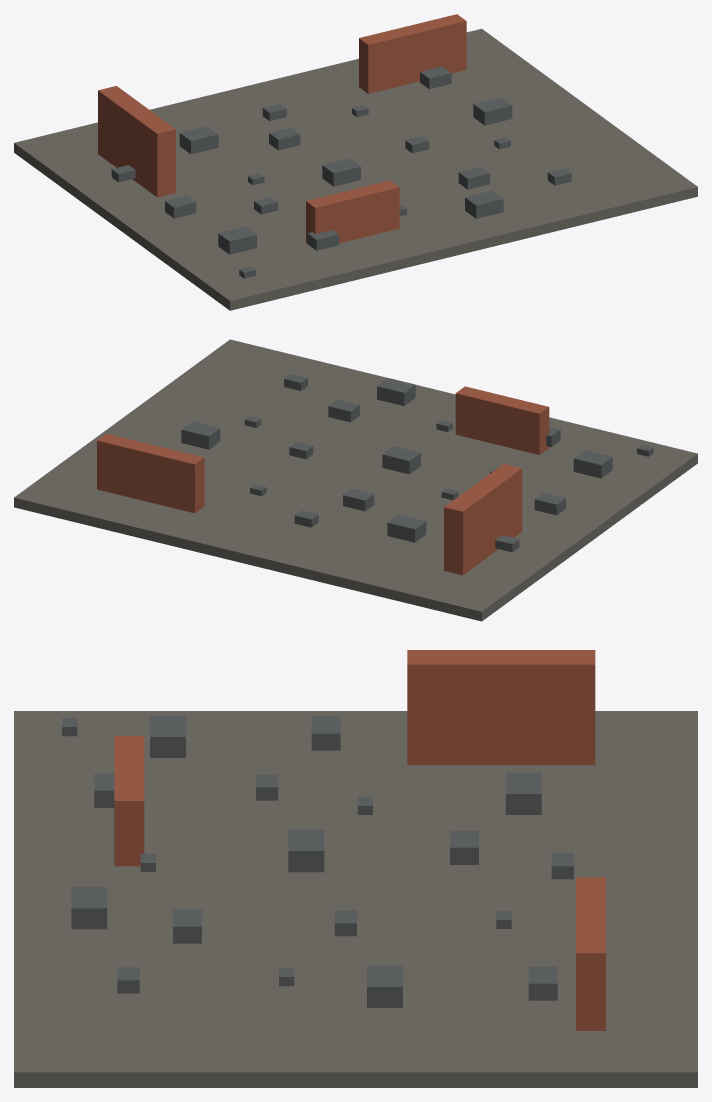
Rendered from CafeStage 1.glb.
The picture shows the model from 3 angles, top to bottom: view 1: azimuth 30°, elevation 25°; view 2: azimuth 150°, elevation 25°; view 3: azimuth 270°, elevation 25°; orthographic projection. The views are drawn at different scales.
Visible parts, largest first — view 1: TileBase_10x8, CafeRuins, CafeRubble; view 2: TileBase_10x8, CafeRuins, CafeRubble; view 3: TileBase_10x8, CafeRuins, CafeRubble.
Part boxes in pixels (left/top/right/bottom): TileBase_10x8: left=14, top=28, right=697, bottom=310; CafeRuins: left=98, top=14, right=466, bottom=243; CafeRubble: left=111, top=66, right=571, bottom=278; TileBase_10x8: left=14, top=339, right=697, bottom=621; CafeRuins: left=97, top=386, right=549, bottom=575; CafeRubble: left=181, top=373, right=653, bottom=552; TileBase_10x8: left=14, top=711, right=697, bottom=1087; CafeRuins: left=114, top=650, right=605, bottom=1030; CafeRubble: left=62, top=715, right=573, bottom=1007.
Bounding box in the file's own units: 10 × 1.5 × 8.
